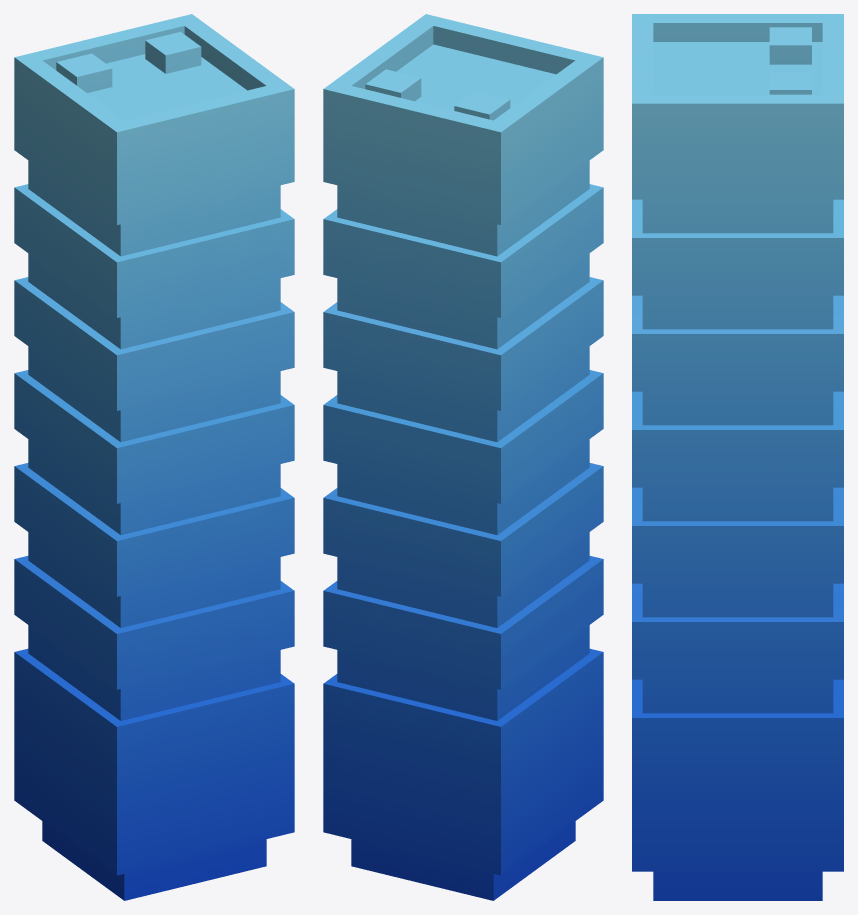
File: build3.fbx
The picture shows the model from 3 angles, left to right: view 1: azimuth 30°, elevation 25°; view 2: azimuth 150°, elevation 25°; view 3: azimuth 270°, elevation 25°; orthographic projection. The views are drawn at different scales.
Visible parts, largest first — view 1: low_buildingN; view 2: low_buildingN; view 3: low_buildingN.
Boxes of the visible parts, x1,y1,x2,y2 form: low_buildingN: (14, 14, 294, 900); low_buildingN: (323, 14, 603, 900); low_buildingN: (632, 14, 843, 900).
Size of the model in its own units: 50 by 210 by 50.
